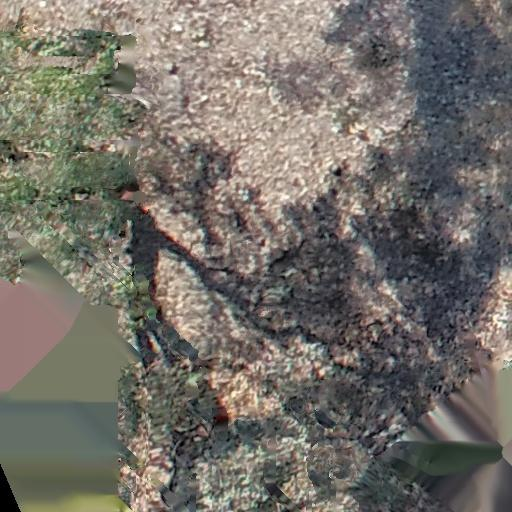stone: (162, 59, 181, 73), (170, 21, 186, 36), (196, 38, 210, 49), (331, 165, 343, 177), (197, 93, 209, 104), (38, 0, 48, 9)
